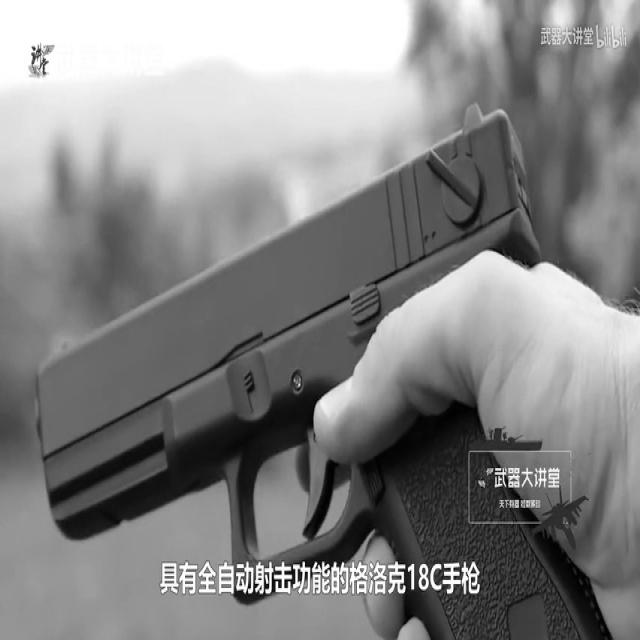Hand-Gun: (43, 43, 640, 640)
